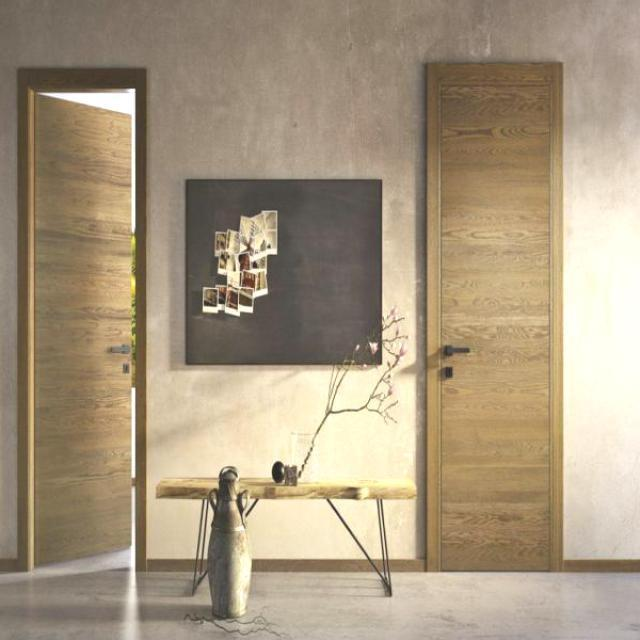door: (424, 61, 562, 572), (24, 89, 140, 570)
